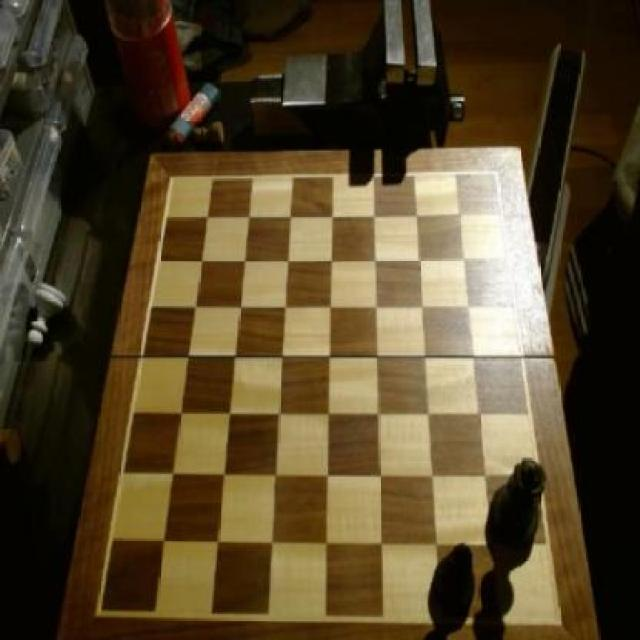bishop: (437, 542, 477, 619)
black-pawn: (489, 457, 548, 551)
